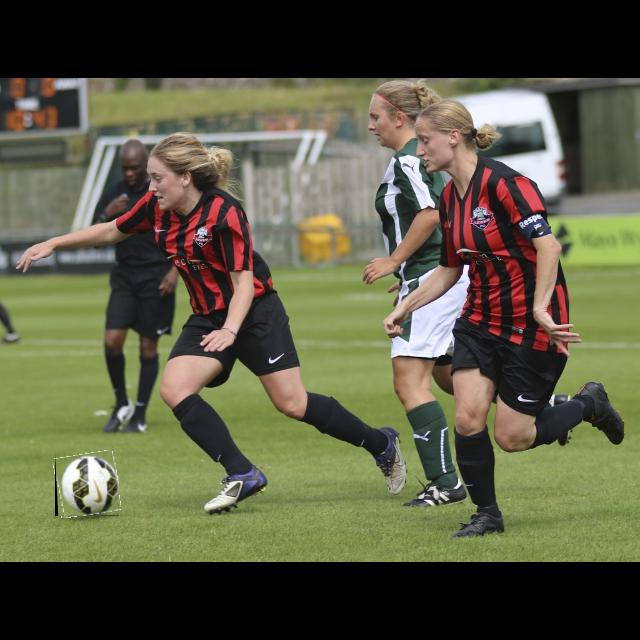Football: (55, 452, 119, 516)
